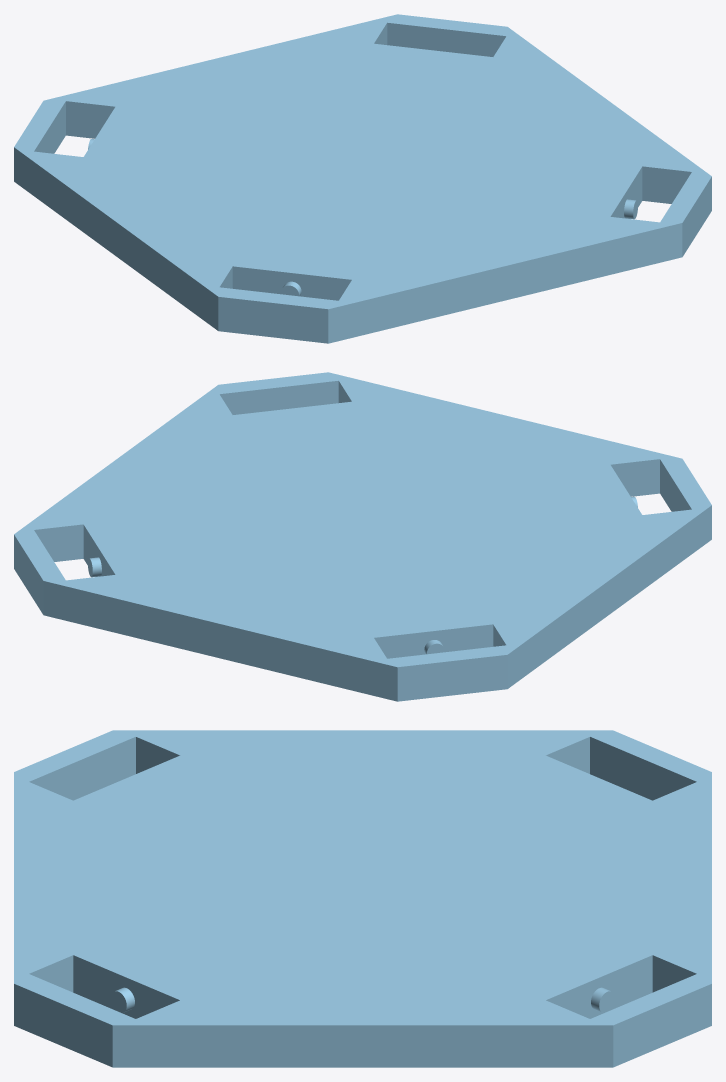
File: chassis.dae
The picture shows the model from 3 angles, top to bottom: view 1: azimuth 30°, elevation 25°; view 2: azimuth 150°, elevation 25°; view 3: azimuth 270°, elevation 25°; orthographic projection. The views are drawn at different scales.
Parts seen in each view (by area): view 1: ID2; view 2: ID2; view 3: ID2.
Part boxes in pixels (x1,y1,x2,y2): ID2: (14,14,711,343); ID2: (14,372,711,701); ID2: (14,730,711,1067).
Bounding box in the file's own units: 0.381 × 0.381 × 0.0254.
